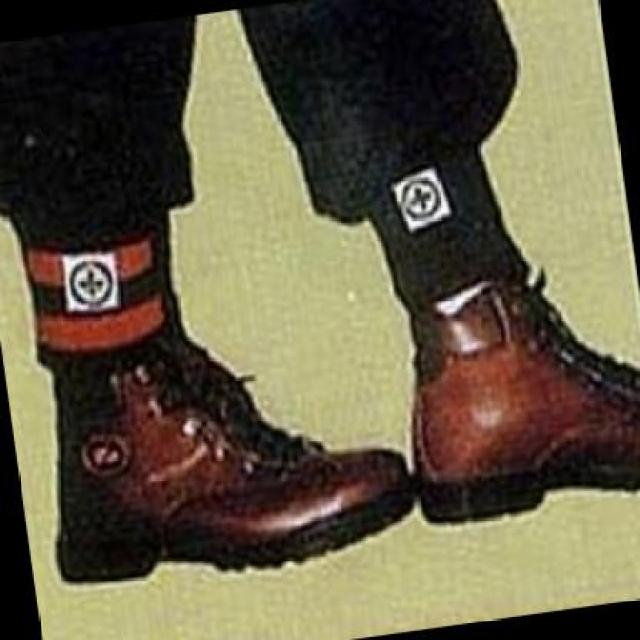Safety Boots: (41, 322, 411, 580), (412, 281, 640, 521)
